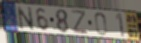0: (94, 11, 108, 36)
1: (115, 12, 126, 39)
6: (35, 7, 50, 33)
8: (54, 9, 70, 34)
N: (16, 5, 36, 31)
Z: (71, 9, 89, 36)
